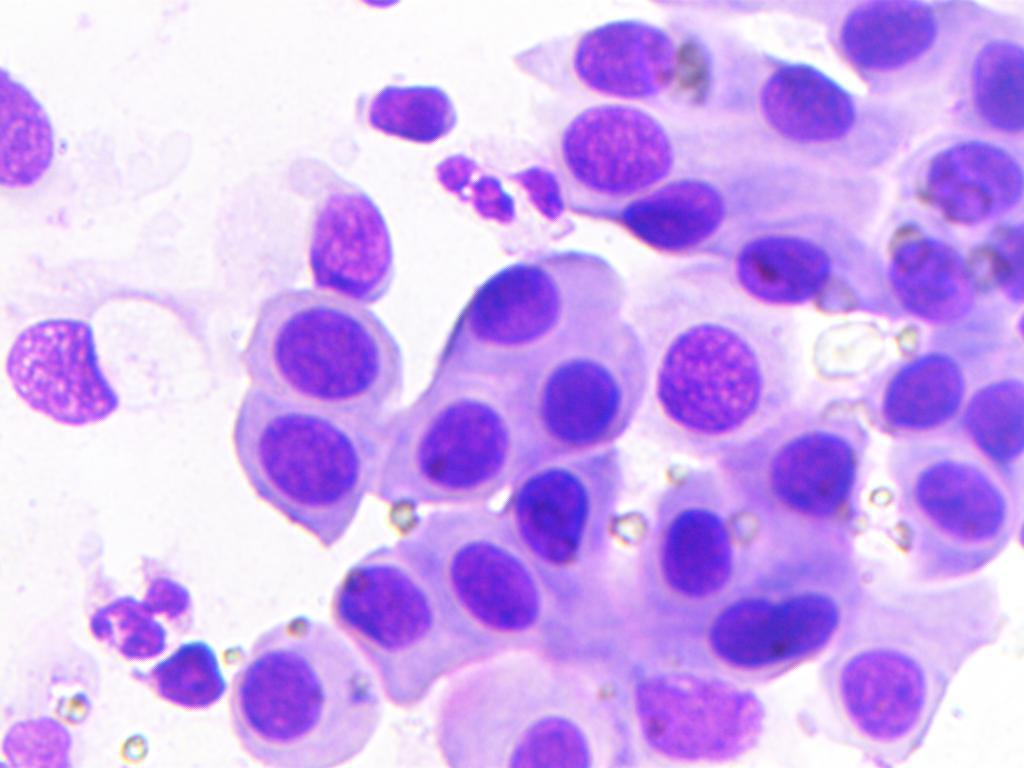artifact: (803, 304, 918, 389), (848, 473, 926, 566), (611, 501, 659, 557), (36, 692, 108, 726), (109, 721, 163, 761), (380, 504, 432, 539)
epithelial: (226, 286, 396, 541), (822, 586, 1000, 759), (225, 609, 355, 767), (427, 516, 580, 646), (734, 38, 876, 167), (433, 250, 609, 353), (877, 440, 1024, 562), (470, 658, 612, 768), (647, 317, 778, 432), (536, 93, 683, 195), (893, 128, 1024, 239), (867, 213, 987, 334), (626, 667, 769, 767), (604, 158, 741, 261), (0, 69, 106, 201), (543, 17, 699, 103), (704, 586, 850, 673), (763, 419, 867, 535), (510, 451, 620, 558), (830, 0, 944, 98), (649, 496, 746, 606), (865, 339, 969, 440), (719, 217, 841, 303), (413, 390, 506, 500), (333, 551, 439, 647), (339, 75, 472, 148), (958, 27, 1024, 146), (968, 373, 1024, 480)
goblet_cell: (0, 274, 228, 419), (217, 163, 402, 310)
neutrophil: (57, 536, 234, 726), (432, 148, 581, 246)
